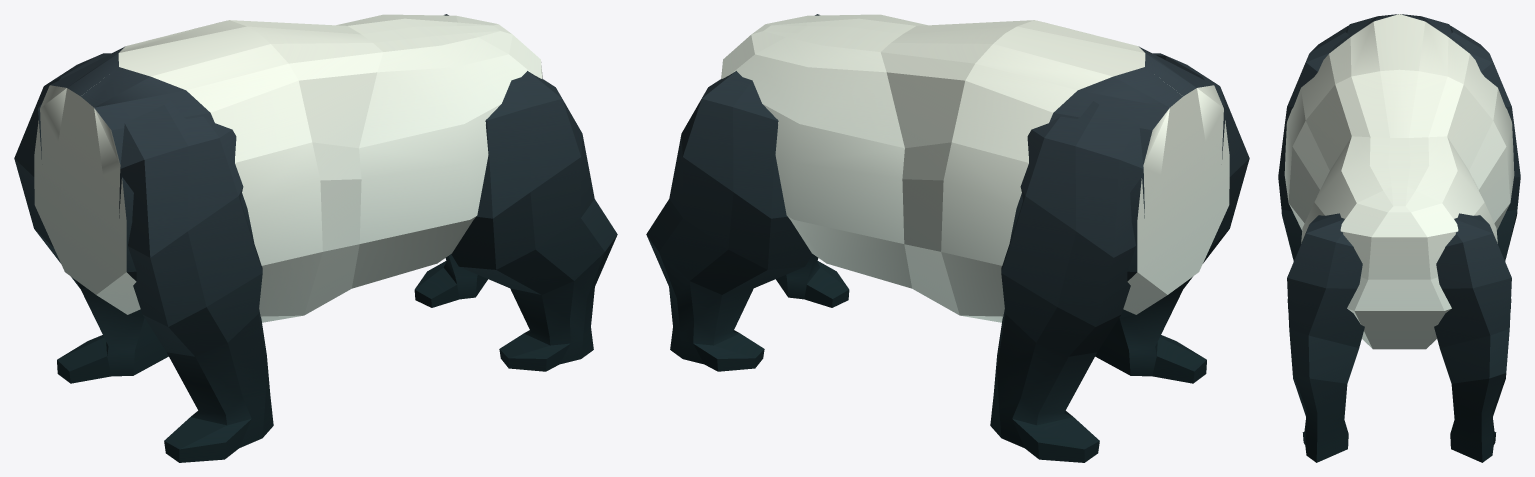
The model's file is SM_Panda_Body.fbx.
The picture shows the model from 3 angles, left to right: view 1: azimuth 30°, elevation 25°; view 2: azimuth 150°, elevation 25°; view 3: azimuth 270°, elevation 25°; orthographic projection. The views are drawn at different scales.
Visible parts, largest first — view 1: SM_Panda_Body; view 2: SM_Panda_Body; view 3: SM_Panda_Body.
Boxes of the visible parts, x1,y1,x2,y2 form: SM_Panda_Body: (14, 14, 617, 462); SM_Panda_Body: (646, 14, 1249, 462); SM_Panda_Body: (1278, 14, 1520, 462).
Bounding box in the file's own units: 105 × 73.01 × 56.52.
